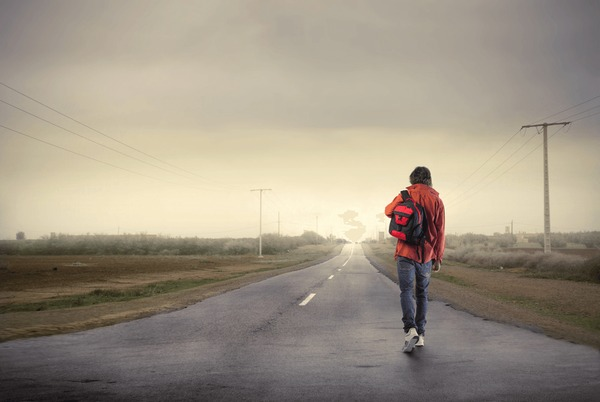Person: (382, 163, 452, 355)
